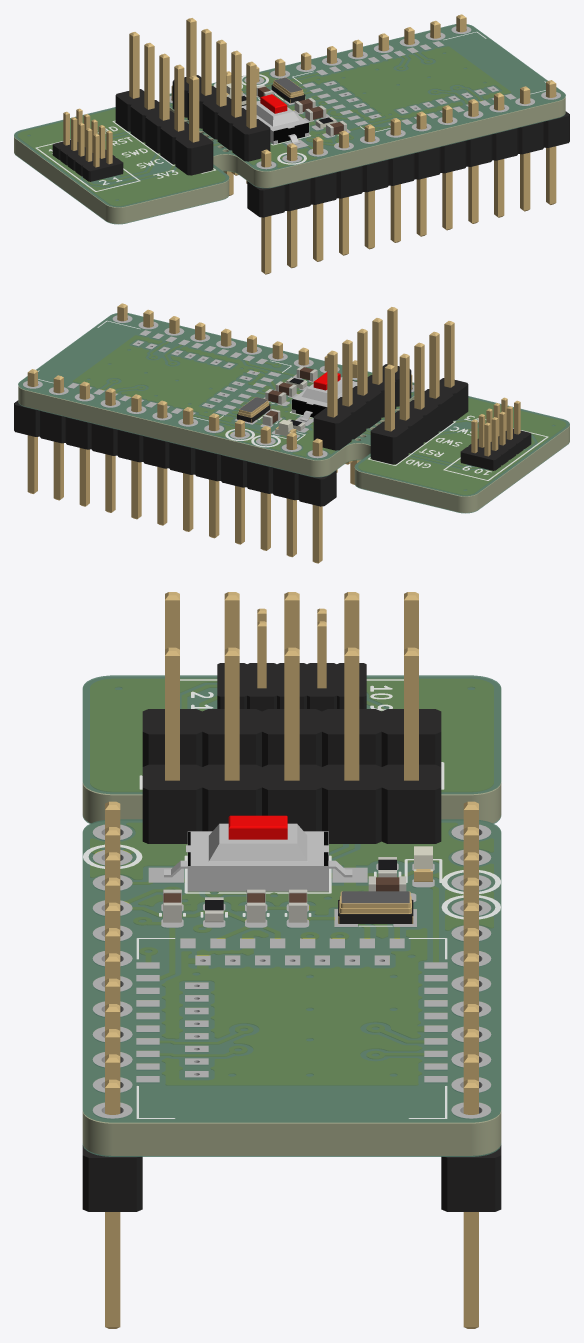
Rendered from board.glb.
The picture shows the model from 3 angles, top to bottom: view 1: azimuth 30°, elevation 25°; view 2: azimuth 150°, elevation 25°; view 3: azimuth 270°, elevation 25°; orthographic projection. The views are drawn at different scales.
Parts seen in each view (by area): view 1: board_soldermask (×2), PinHeader_1x12_P254mm_Vertical (×2), board_PCB, PinHeader_1x05_P254mm_Vertical (×2), board_copper, board_pad, PinHeader_2x05_P127mm_Vertical, SW_SPST_CK_RS282G05A3, board_silkscreen, Crystal_SMD_3215-2Pin_3.2x1.5mm; view 2: board_soldermask (×2), PinHeader_1x12_P254mm_Vertical (×2), board_PCB, PinHeader_1x05_P254mm_Vertical (×2), board_copper, board_pad, PinHeader_2x05_P127mm_Vertical, board_silkscreen, SW_SPST_CK_RS282G05A3, Crystal_SMD_3215-2Pin_3.2x1.5mm; view 3: board_soldermask, board_PCB, board_copper, PinHeader_1x05_P254mm_Vertical (×2), PinHeader_1x12_P254mm_Vertical (×2), board_pad, SW_SPST_CK_RS282G05A3, PinHeader_2x05_P127mm_Vertical, board_silkscreen, Crystal_SMD_3215-2Pin_3.2x1.5mm.
Part boxes in pixels (x1=…): board_soldermask (×2): x1=14, y1=24, x2=565, y2=224; PinHeader_1x12_P254mm_Vertical (×2): x1=171, y1=14, x2=569, y2=274; board_PCB: x1=14, y1=25, x2=565, y2=223; PinHeader_1x05_P254mm_Vertical (×2): x1=115, y1=18, x2=270, y2=183; board_copper: x1=18, y1=47, x2=510, y2=205; board_pad: x1=169, y1=26, x2=560, y2=169; PinHeader_2x05_P127mm_Vertical: x1=52, y1=108, x2=123, y2=181; SW_SPST_CK_RS282G05A3: x1=241, y1=94, x2=309, y2=144; board_silkscreen: x1=35, y1=31, x2=545, y2=191; Crystal_SMD_3215-2Pin_3.2x1.5mm: x1=271, y1=77, x2=305, y2=103; board_soldermask (×2): x1=18, y1=313, x2=569, y2=513; PinHeader_1x12_P254mm_Vertical (×2): x1=14, y1=303, x2=412, y2=563; board_PCB: x1=18, y1=314, x2=569, y2=512; PinHeader_1x05_P254mm_Vertical (×2): x1=313, y1=307, x2=468, y2=472; board_copper: x1=73, y1=336, x2=565, y2=494; board_pad: x1=23, y1=315, x2=414, y2=458; PinHeader_2x05_P127mm_Vertical: x1=460, y1=397, x2=531, y2=470; board_silkscreen: x1=38, y1=320, x2=548, y2=480; SW_SPST_CK_RS282G05A3: x1=291, y1=372, x2=357, y2=421; Crystal_SMD_3215-2Pin_3.2x1.5mm: x1=236, y1=397, x2=270, y2=422; board_soldermask: x1=82, y1=675, x2=501, y2=1122; board_PCB: x1=82, y1=677, x2=501, y2=1155; board_copper: x1=90, y1=679, x2=493, y2=1084; PinHeader_1x05_P254mm_Vertical (×2): x1=142, y1=592, x2=441, y2=843; PinHeader_1x12_P254mm_Vertical (×2): x1=82, y1=801, x2=501, y2=1328; board_pad: x1=92, y1=824, x2=491, y2=1118; SW_SPST_CK_RS282G05A3: x1=164, y1=815, x2=352, y2=891; PinHeader_2x05_P127mm_Vertical: x1=217, y1=608, x2=366, y2=711; board_silkscreen: x1=83, y1=679, x2=500, y2=1118; Crystal_SMD_3215-2Pin_3.2x1.5mm: x1=338, y1=891, x2=413, y2=923.
Size of the model in its own units: 0.045 by 0.0188 by 0.0178.
